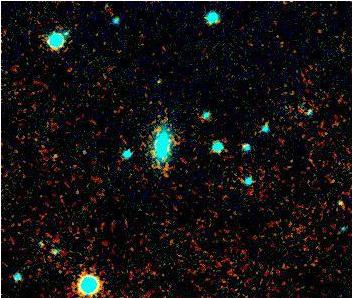star: (331, 190, 352, 220)
